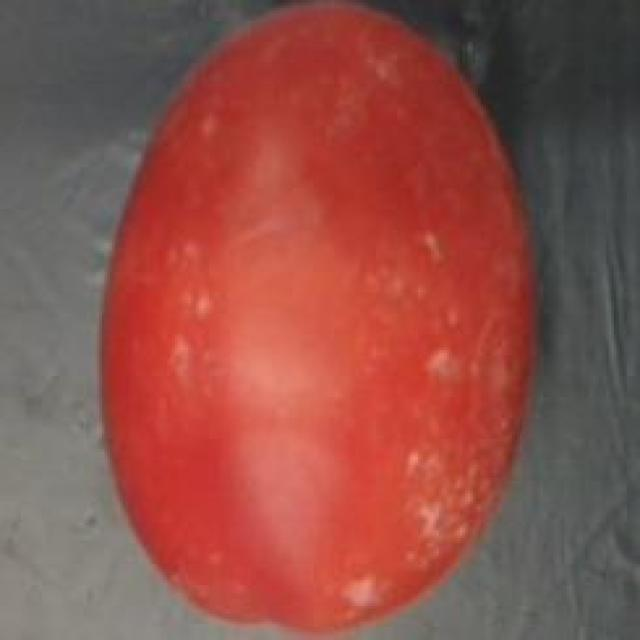overripe tomato: (86, 0, 559, 640)
